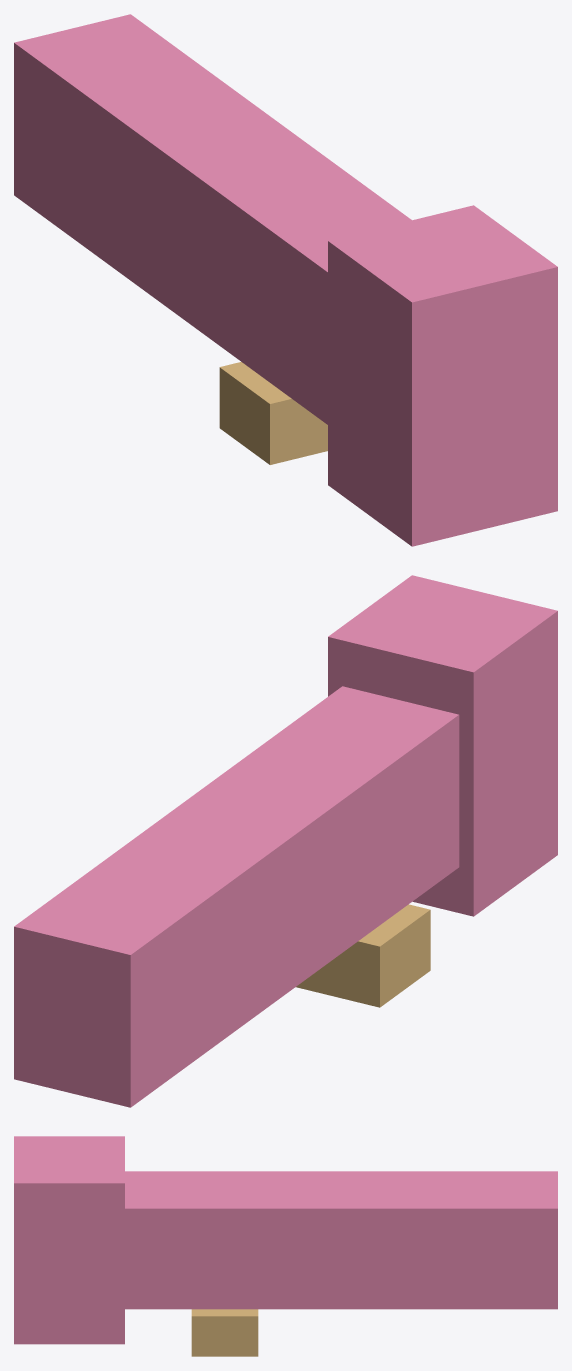
The model's file is TacticalStock.obj.
3 views of the same model, one above another, from view 1: azimuth 30°, elevation 25°; view 2: azimuth 150°, elevation 25°; view 3: azimuth 270°, elevation 25° (orthographic). The views are drawn at different scales.
Visible parts, largest first — view 1: TacticalStock_Body, TacticalStock_Detail; view 2: TacticalStock_Body, TacticalStock_Detail; view 3: TacticalStock_Body, TacticalStock_Detail.
Boxes of the visible parts, x1,y1,x2,y2 form: TacticalStock_Body: (14,14,557,546); TacticalStock_Detail: (219,362,327,464); TacticalStock_Body: (14,575,557,1107); TacticalStock_Detail: (296,904,430,1007); TacticalStock_Body: (14,1136,557,1344); TacticalStock_Detail: (191,1309,258,1356).
Bounding box in the file's own units: 0.11 × 0.17 × 0.49.
